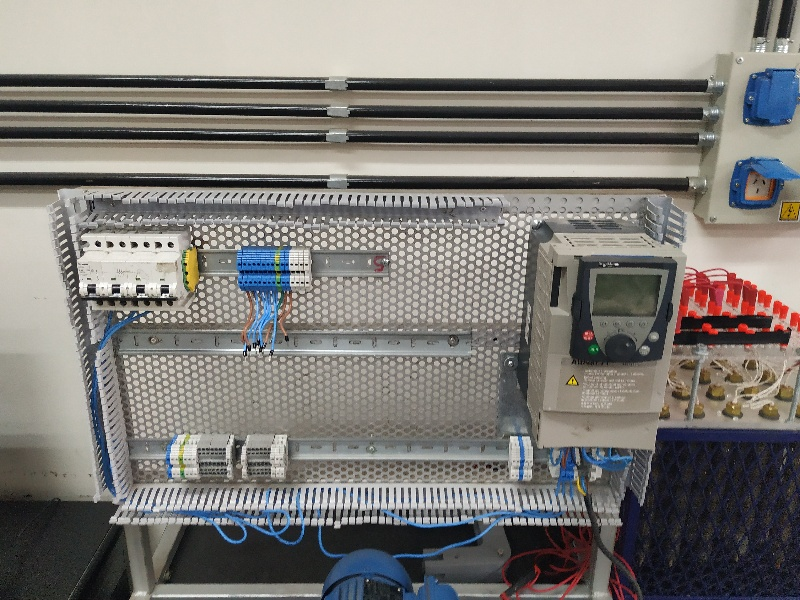Tablero 0: (66, 198, 675, 527)
